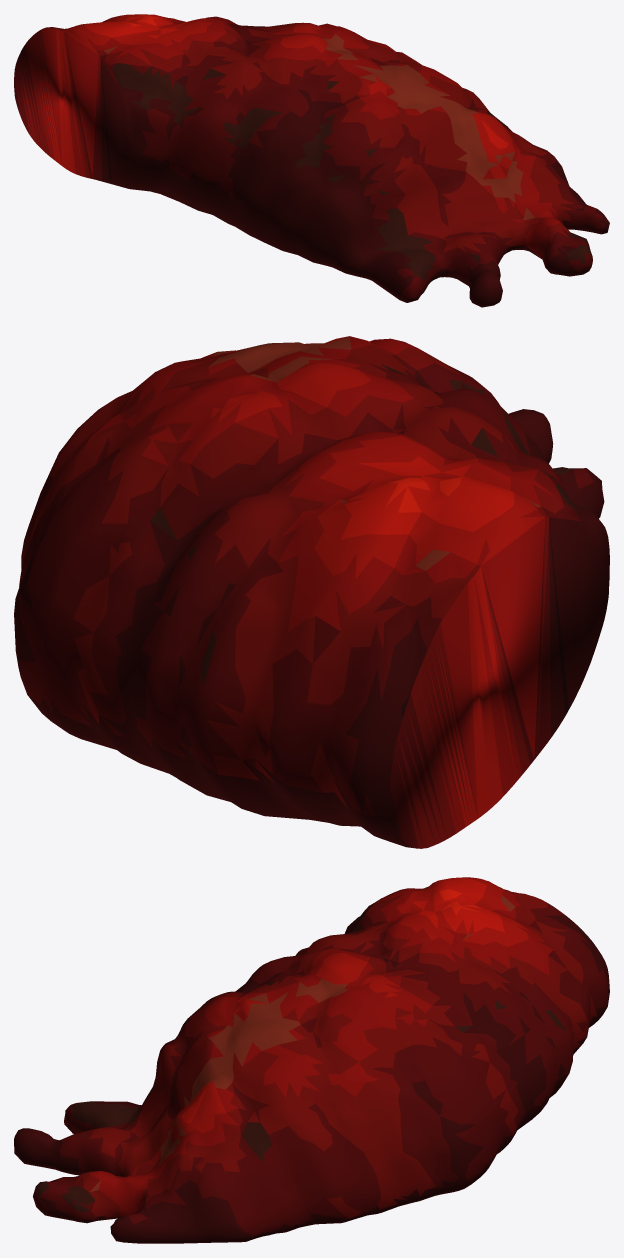
File: red_mound_b_r.glb
3 renders of one model, top to bottom at view 1: azimuth 30°, elevation 25°; view 2: azimuth 150°, elevation 25°; view 3: azimuth 270°, elevation 25°, orthographic. The views are drawn at different scales.
Parts seen in each view (by area): view 1: red_mound_b_r; view 2: red_mound_b_r; view 3: red_mound_b_r.
Boxes of the visible parts, x1,y1,x2,y2 form: red_mound_b_r: (14, 14, 609, 307); red_mound_b_r: (14, 336, 609, 848); red_mound_b_r: (14, 877, 609, 1243).
Size of the model in its own units: 21.85 by 10.33 by 29.26.
